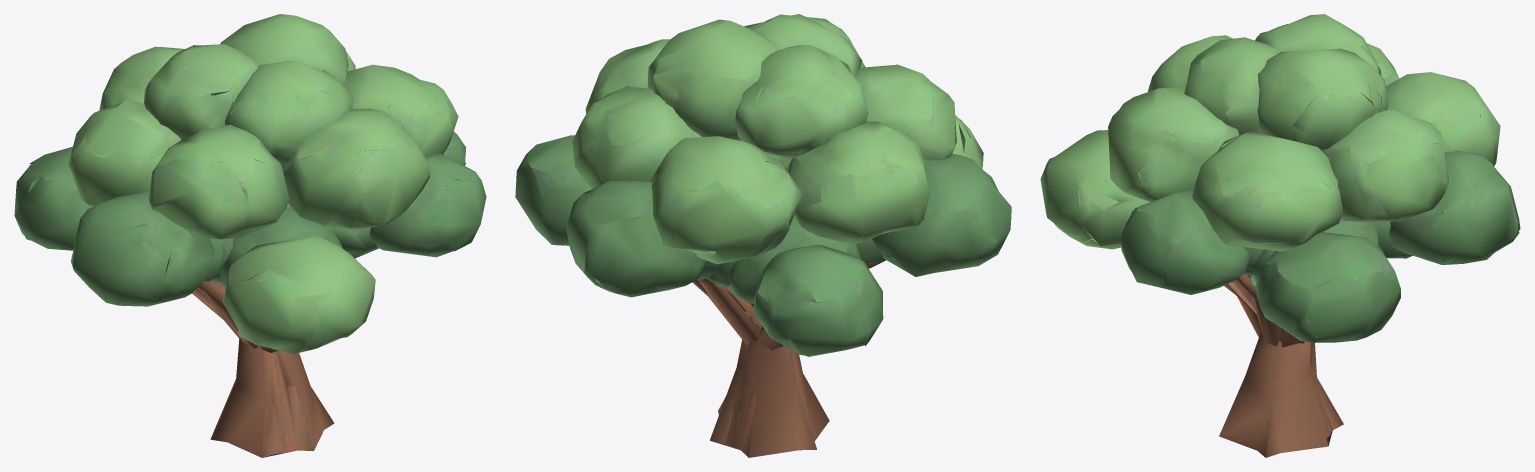
File: oak.glb
3 views of the same model, side by side, from view 1: azimuth 30°, elevation 25°; view 2: azimuth 150°, elevation 25°; view 3: azimuth 270°, elevation 25° (orthographic). The views are drawn at different scales.
Parts seen in each view (by area): view 1: lod0; view 2: lod0; view 3: lod0.
Part boxes in pixels (x1,y1,x2,y2): lod0: [14, 14, 486, 457]; lod0: [515, 14, 1011, 457]; lod0: [1040, 14, 1520, 457].
Size of what is drawn, in the model's own units: 7.66 by 6.86 by 7.53.
1 material, 1 textured.
